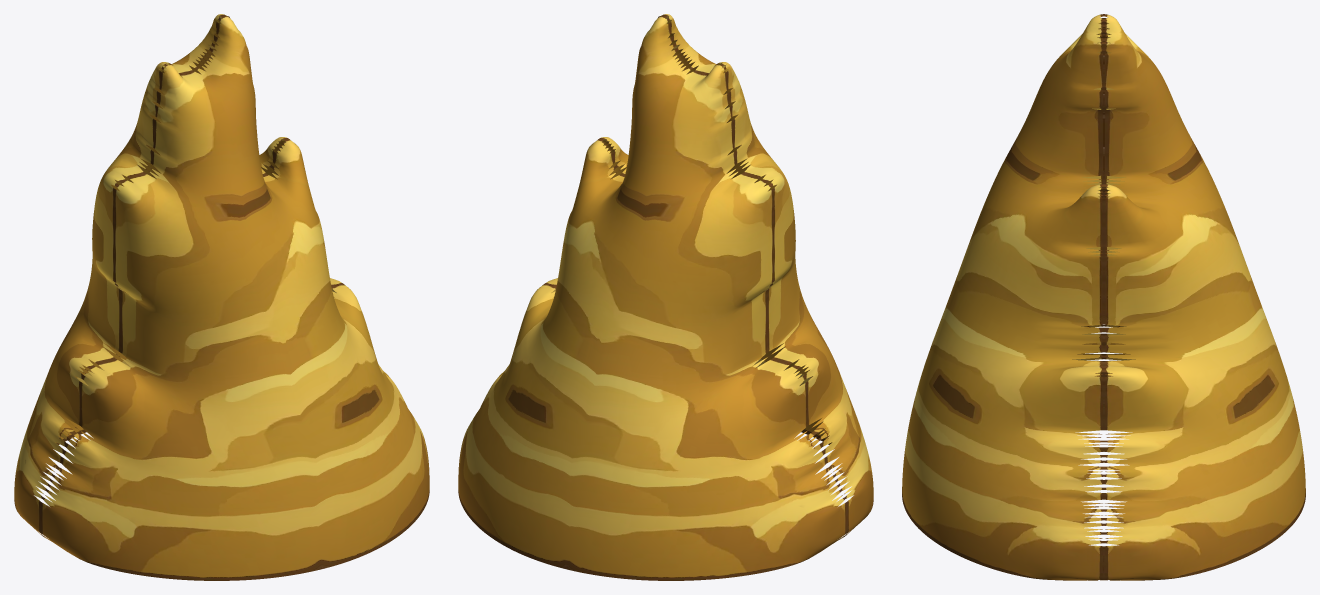
The model's file is ruin_tower.glb.
3 views of the same model, side by side, from view 1: azimuth 30°, elevation 25°; view 2: azimuth 150°, elevation 25°; view 3: azimuth 270°, elevation 25° (orthographic).
Parts seen in each view (by area): view 1: ruin_tower; view 2: ruin_tower; view 3: ruin_tower.
Boxes of the visible parts, bbox=[...] form: ruin_tower: bbox=[14, 14, 429, 580]; ruin_tower: bbox=[458, 14, 873, 580]; ruin_tower: bbox=[902, 14, 1305, 580].
Size of the model in its own units: 0.9861 by 1.24 by 0.9471.
1 material, 1 textured.
